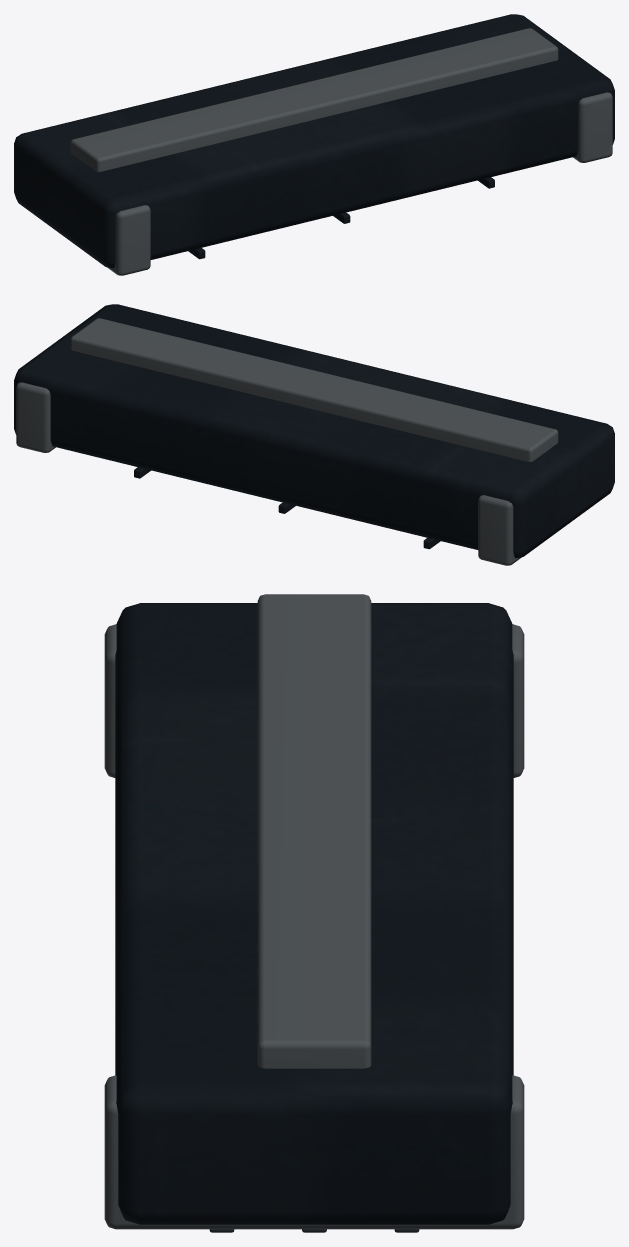
File: Dock_Light_160cm.fbx
The picture shows the model from 3 angles, top to bottom: view 1: azimuth 30°, elevation 25°; view 2: azimuth 150°, elevation 25°; view 3: azimuth 270°, elevation 25°; orthographic projection. The views are drawn at different scales.
Parts seen in each view (by area): view 1: Dock_Light_160cm.002; view 2: Dock_Light_160cm.002; view 3: Dock_Light_160cm.002.
Part boxes in pixels (box(x1,y1,x2,y2)): Dock_Light_160cm.002: box(14, 14, 614, 275); Dock_Light_160cm.002: box(14, 304, 614, 565); Dock_Light_160cm.002: box(104, 594, 524, 1232).
Bounding box in the file's own units: 166 × 33.15 × 59.
Materials: 1 (1 with a texture image).
